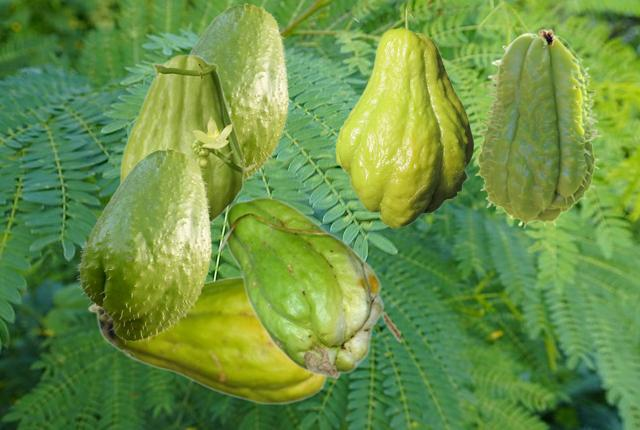sayote: (217, 196, 399, 378), (87, 275, 327, 404), (335, 6, 473, 227), (75, 148, 212, 343), (474, 28, 600, 228), (119, 54, 256, 221), (189, 3, 289, 182)
